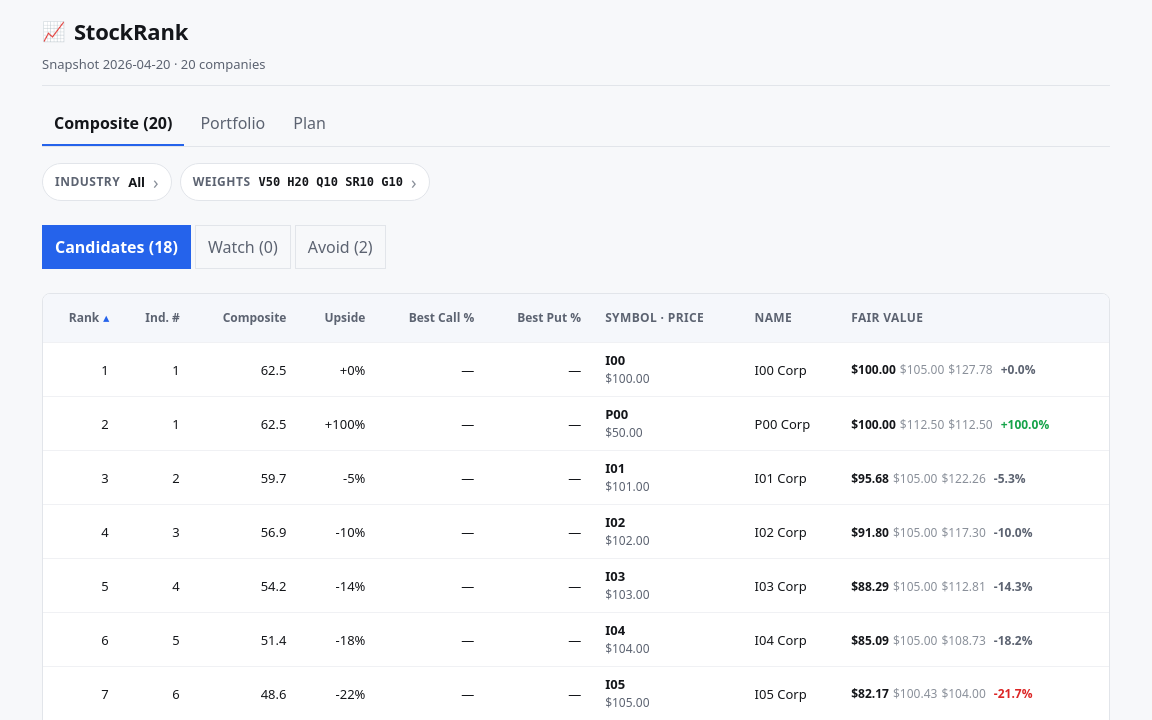
Scenario: <App /> — navigation › opens the StockDetail screen when a row is clicked
Click the row that starts with "I00" at [576, 370], box [43,342,1109,397]
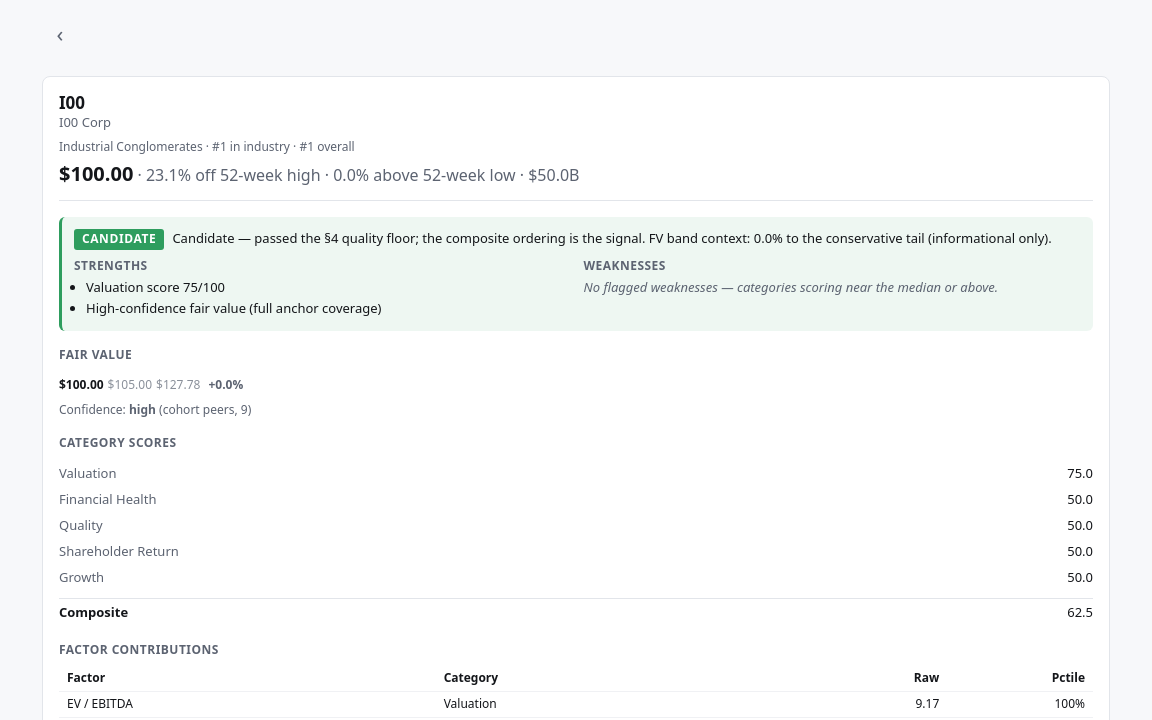
Expected: the heading "I00 I00 Corp" is shown, [59,93,111,131]
